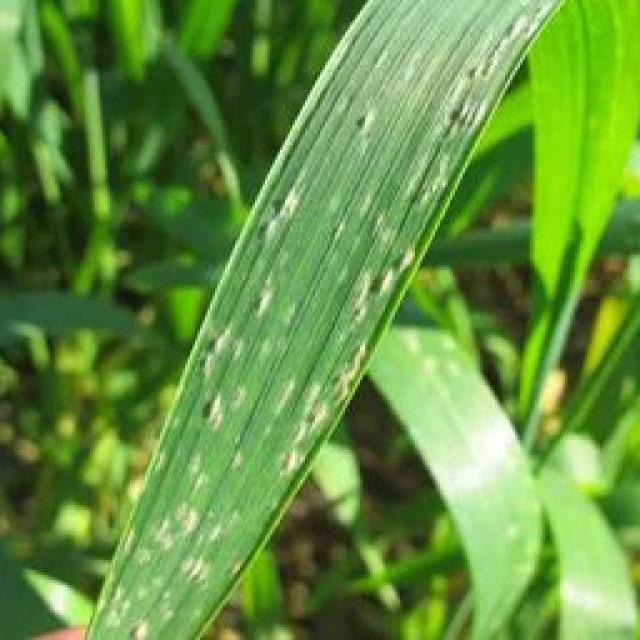wheat-powdery-mildew: (83, 0, 573, 640)
